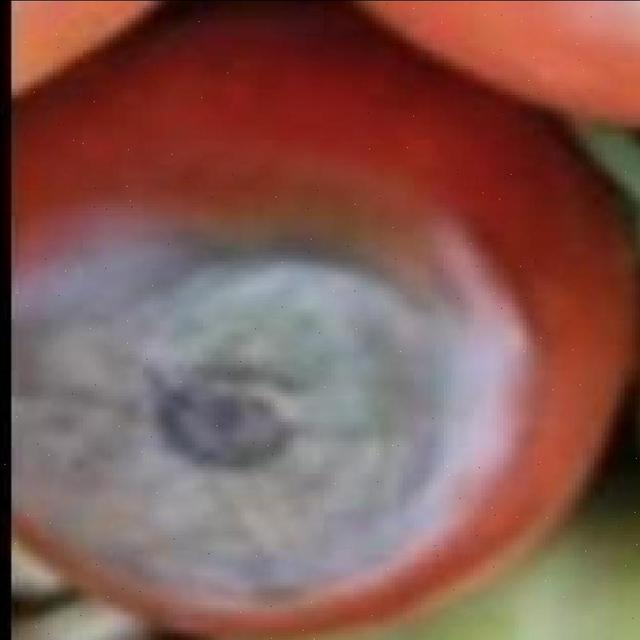Blossom End Rot Fruit: (2, 125, 363, 420)
